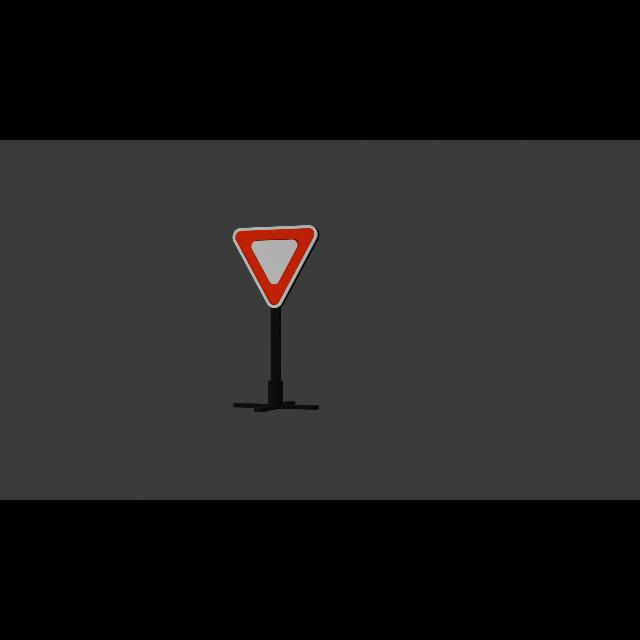sign_yield: (233, 225, 320, 309)
